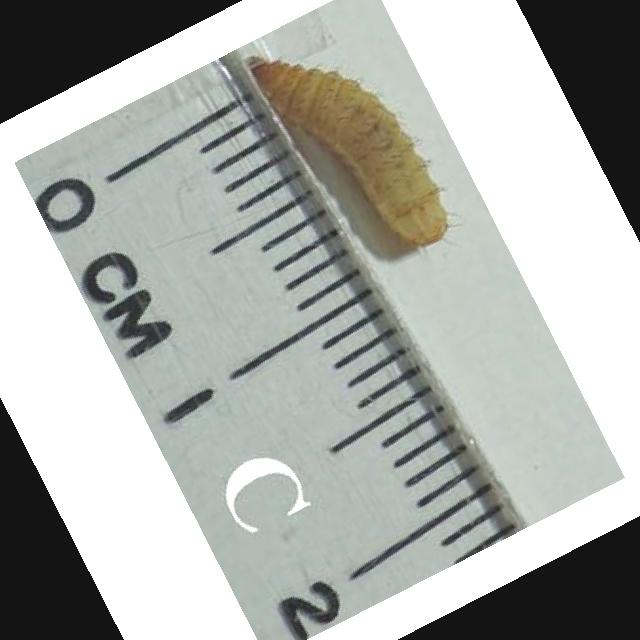Maggot: (245, 51, 456, 247)
